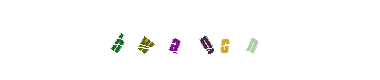A: (150, 0, 230, 80)
C: (163, 0, 243, 80)
G: (152, 0, 232, 80)
H: (78, 0, 158, 80)
N: (174, 0, 254, 80)
W: (105, 0, 185, 80)
